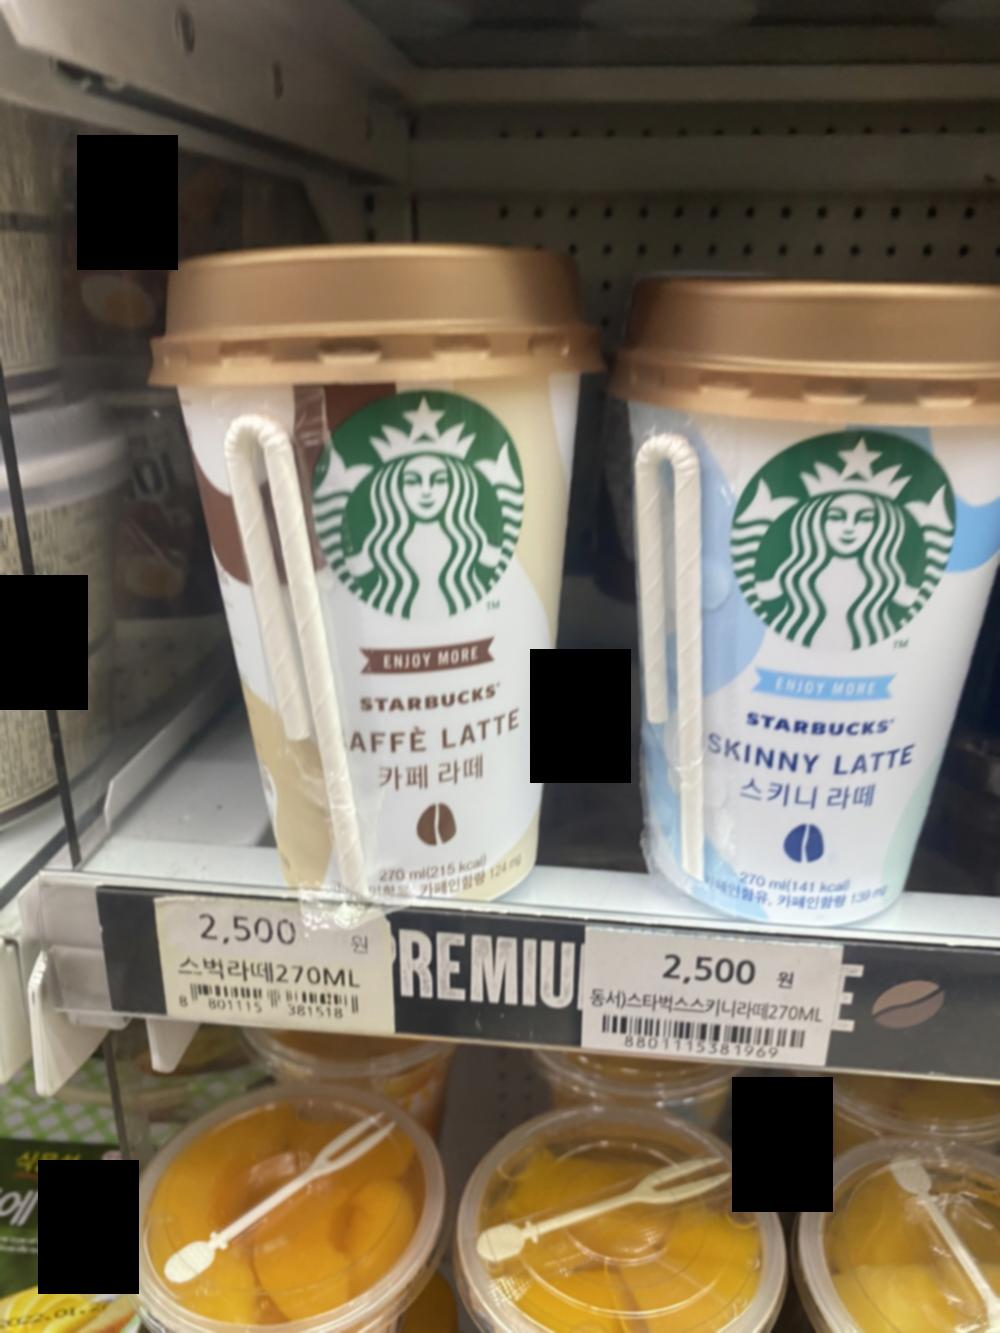starbucks_cafelatte: (136, 237, 611, 904)
